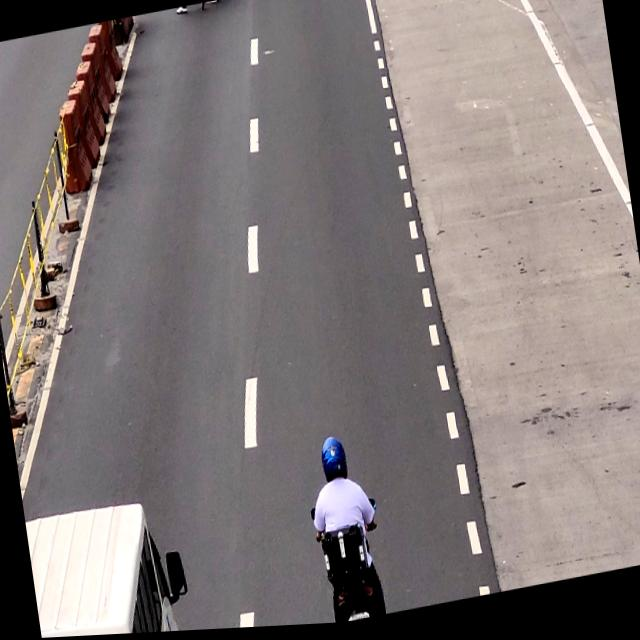Motorcycle: (301, 432, 392, 628)
